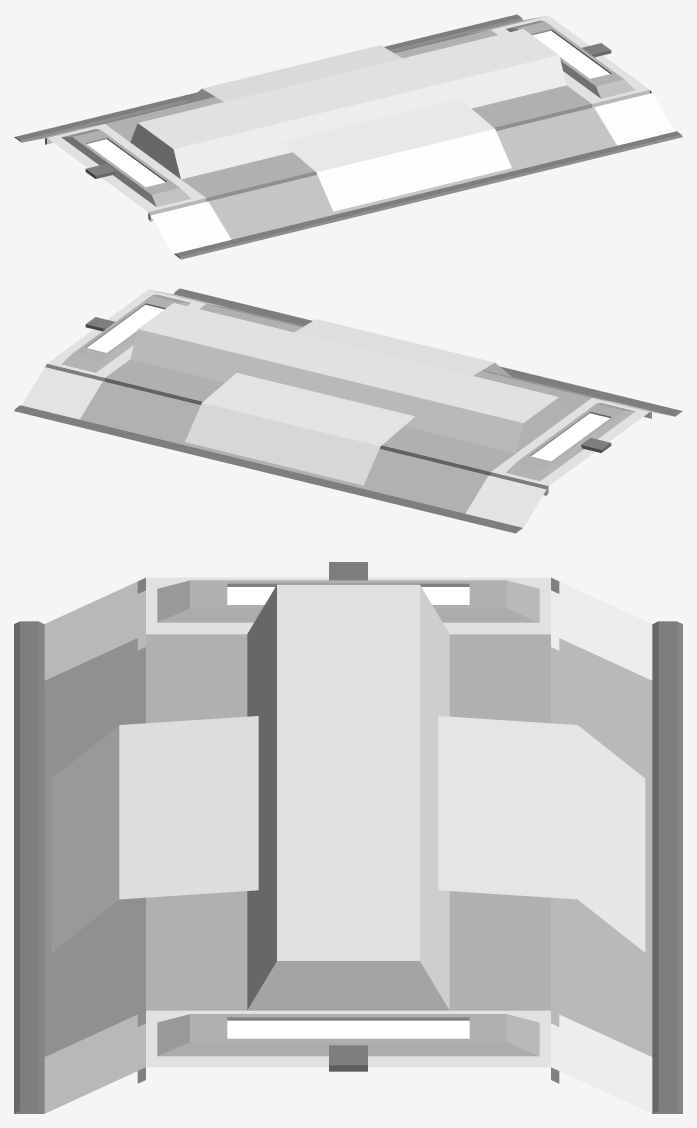
Rendered from Empty_0_degrees.fbx.
3 renders of one model, top to bottom at view 1: azimuth 30°, elevation 25°; view 2: azimuth 150°, elevation 25°; view 3: azimuth 270°, elevation 25°, orthographic. The views are drawn at different scales.
Visible parts, largest first — view 1: hall; view 2: hall; view 3: hall.
Part boxes in pixels (box(x1,y1,x2,y2)): hall: box(14, 14, 682, 259); hall: box(14, 288, 682, 533); hall: box(14, 562, 682, 1113).
Size of the model in its own units: 220 by 19.62 by 124.
